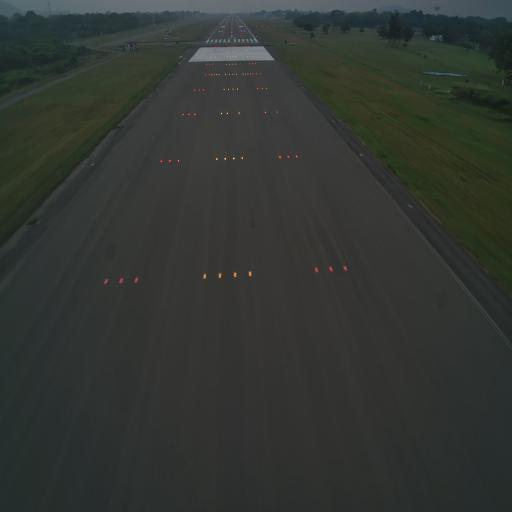off: (404, 200, 414, 211), (34, 216, 43, 228), (358, 150, 365, 158), (90, 160, 95, 168)
on: (232, 266, 239, 282), (312, 264, 320, 278), (326, 262, 334, 276), (340, 264, 348, 276), (247, 267, 254, 280), (201, 272, 209, 283), (118, 275, 124, 287), (104, 274, 109, 288), (218, 270, 223, 280), (214, 156, 219, 166), (278, 153, 283, 162), (134, 275, 138, 285), (167, 156, 172, 164), (223, 154, 227, 163), (232, 154, 236, 162), (240, 155, 244, 162), (295, 153, 299, 160), (158, 158, 162, 164), (176, 158, 180, 164), (287, 153, 290, 161)
